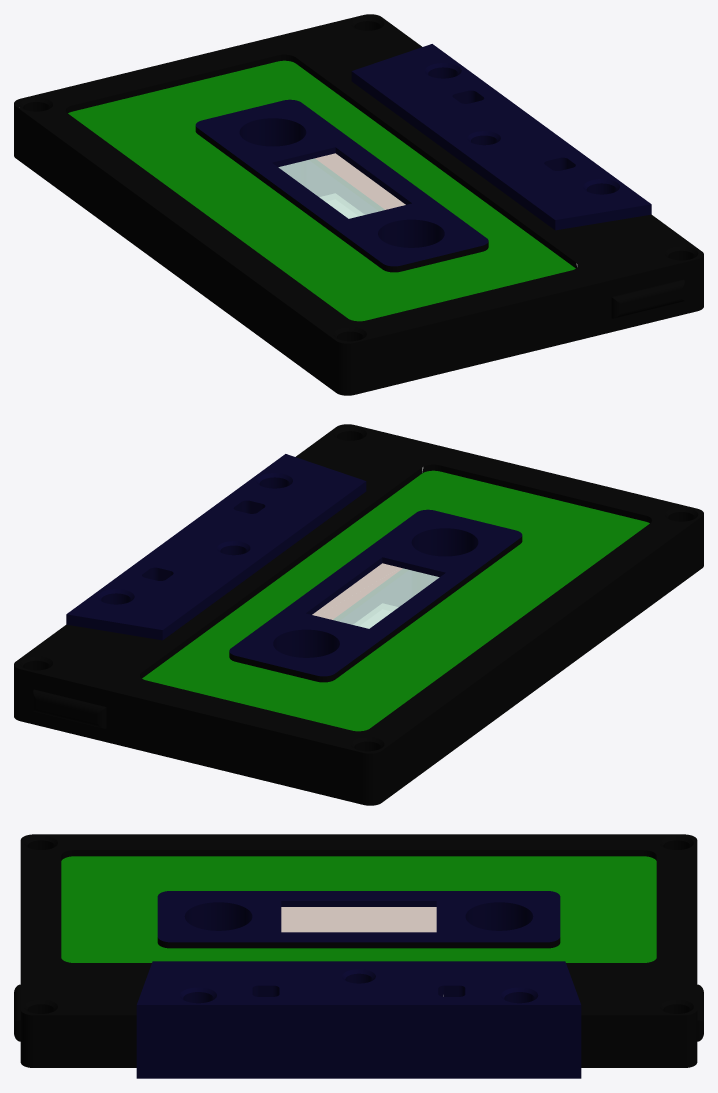
File: tape3.glb
The picture shows the model from 3 angles, top to bottom: view 1: azimuth 30°, elevation 25°; view 2: azimuth 150°, elevation 25°; view 3: azimuth 270°, elevation 25°; orthographic projection.
Parts seen in each view (by area): view 1: Cassette; view 2: Cassette; view 3: Cassette.
Boxes of the visible parts, x1,y1,x2,y2 form: Cassette: (14, 14, 703, 395); Cassette: (14, 424, 703, 805); Cassette: (14, 834, 703, 1078).
Size of the model in its own units: 63.31 by 12 by 102.
